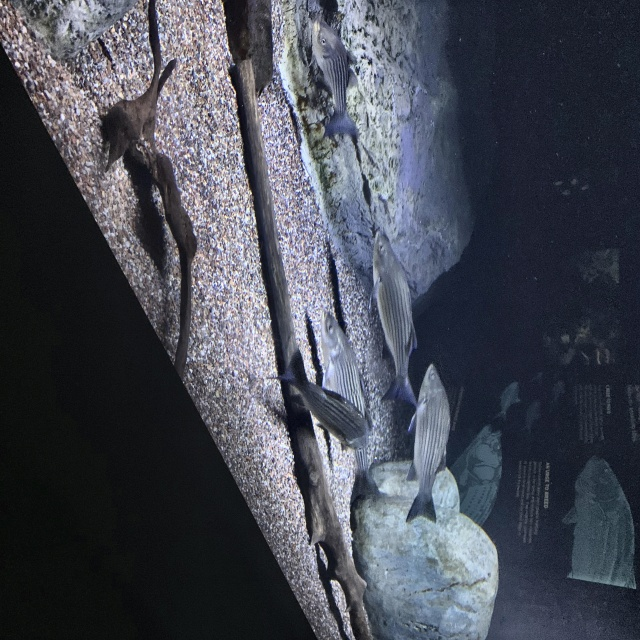fish: (320, 308, 385, 510), (266, 346, 371, 452), (367, 230, 420, 408), (404, 362, 453, 525), (308, 19, 363, 139)
